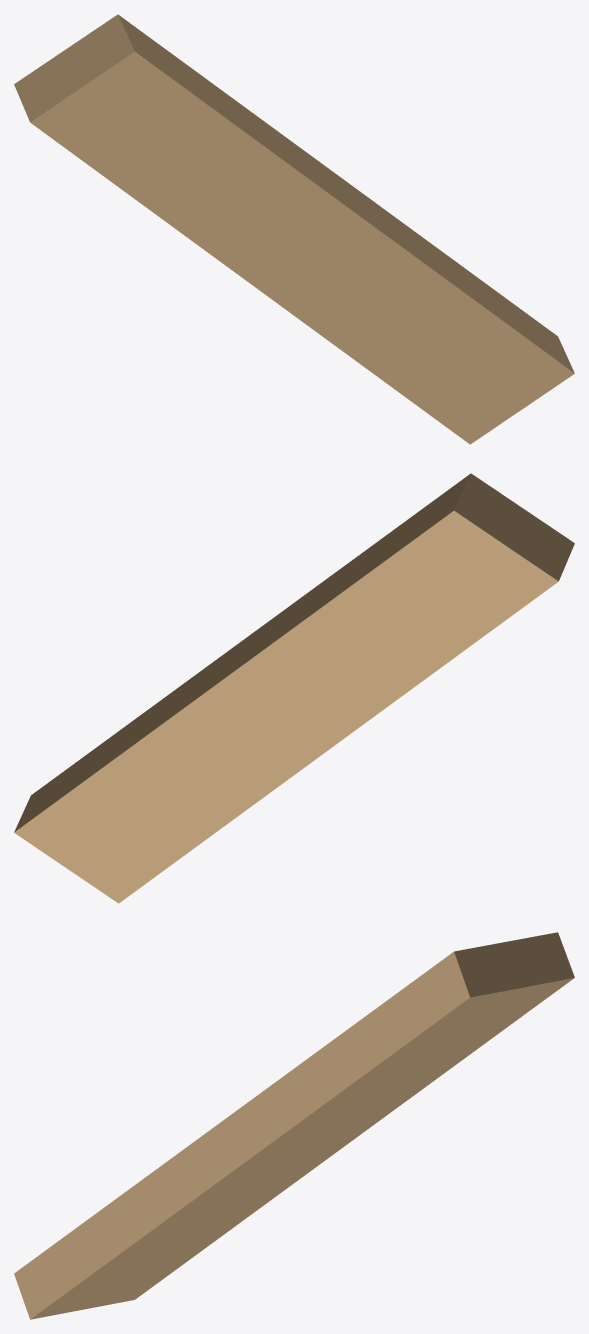
3 views of the same model, one above another, from view 1: azimuth 30°, elevation 25°; view 2: azimuth 150°, elevation 25°; view 3: azimuth 330°, elevation 25° (orthographic).
Parts seen in each view (by area): view 1: 0_2_2_3_0_0_0_3_0_1_2_3; view 2: 0_2_2_3_0_0_0_3_0_1_2_3; view 3: 0_2_2_3_0_0_0_3_0_1_2_3.
Part boxes in pixels (left/top/right/bottom): 0_2_2_3_0_0_0_3_0_1_2_3: left=14, top=14, right=574, bottom=444; 0_2_2_3_0_0_0_3_0_1_2_3: left=14, top=473, right=574, bottom=903; 0_2_2_3_0_0_0_3_0_1_2_3: left=14, top=932, right=574, bottom=1319.
Size of the model in its own units: 3.33 by 2.29 by 21.
